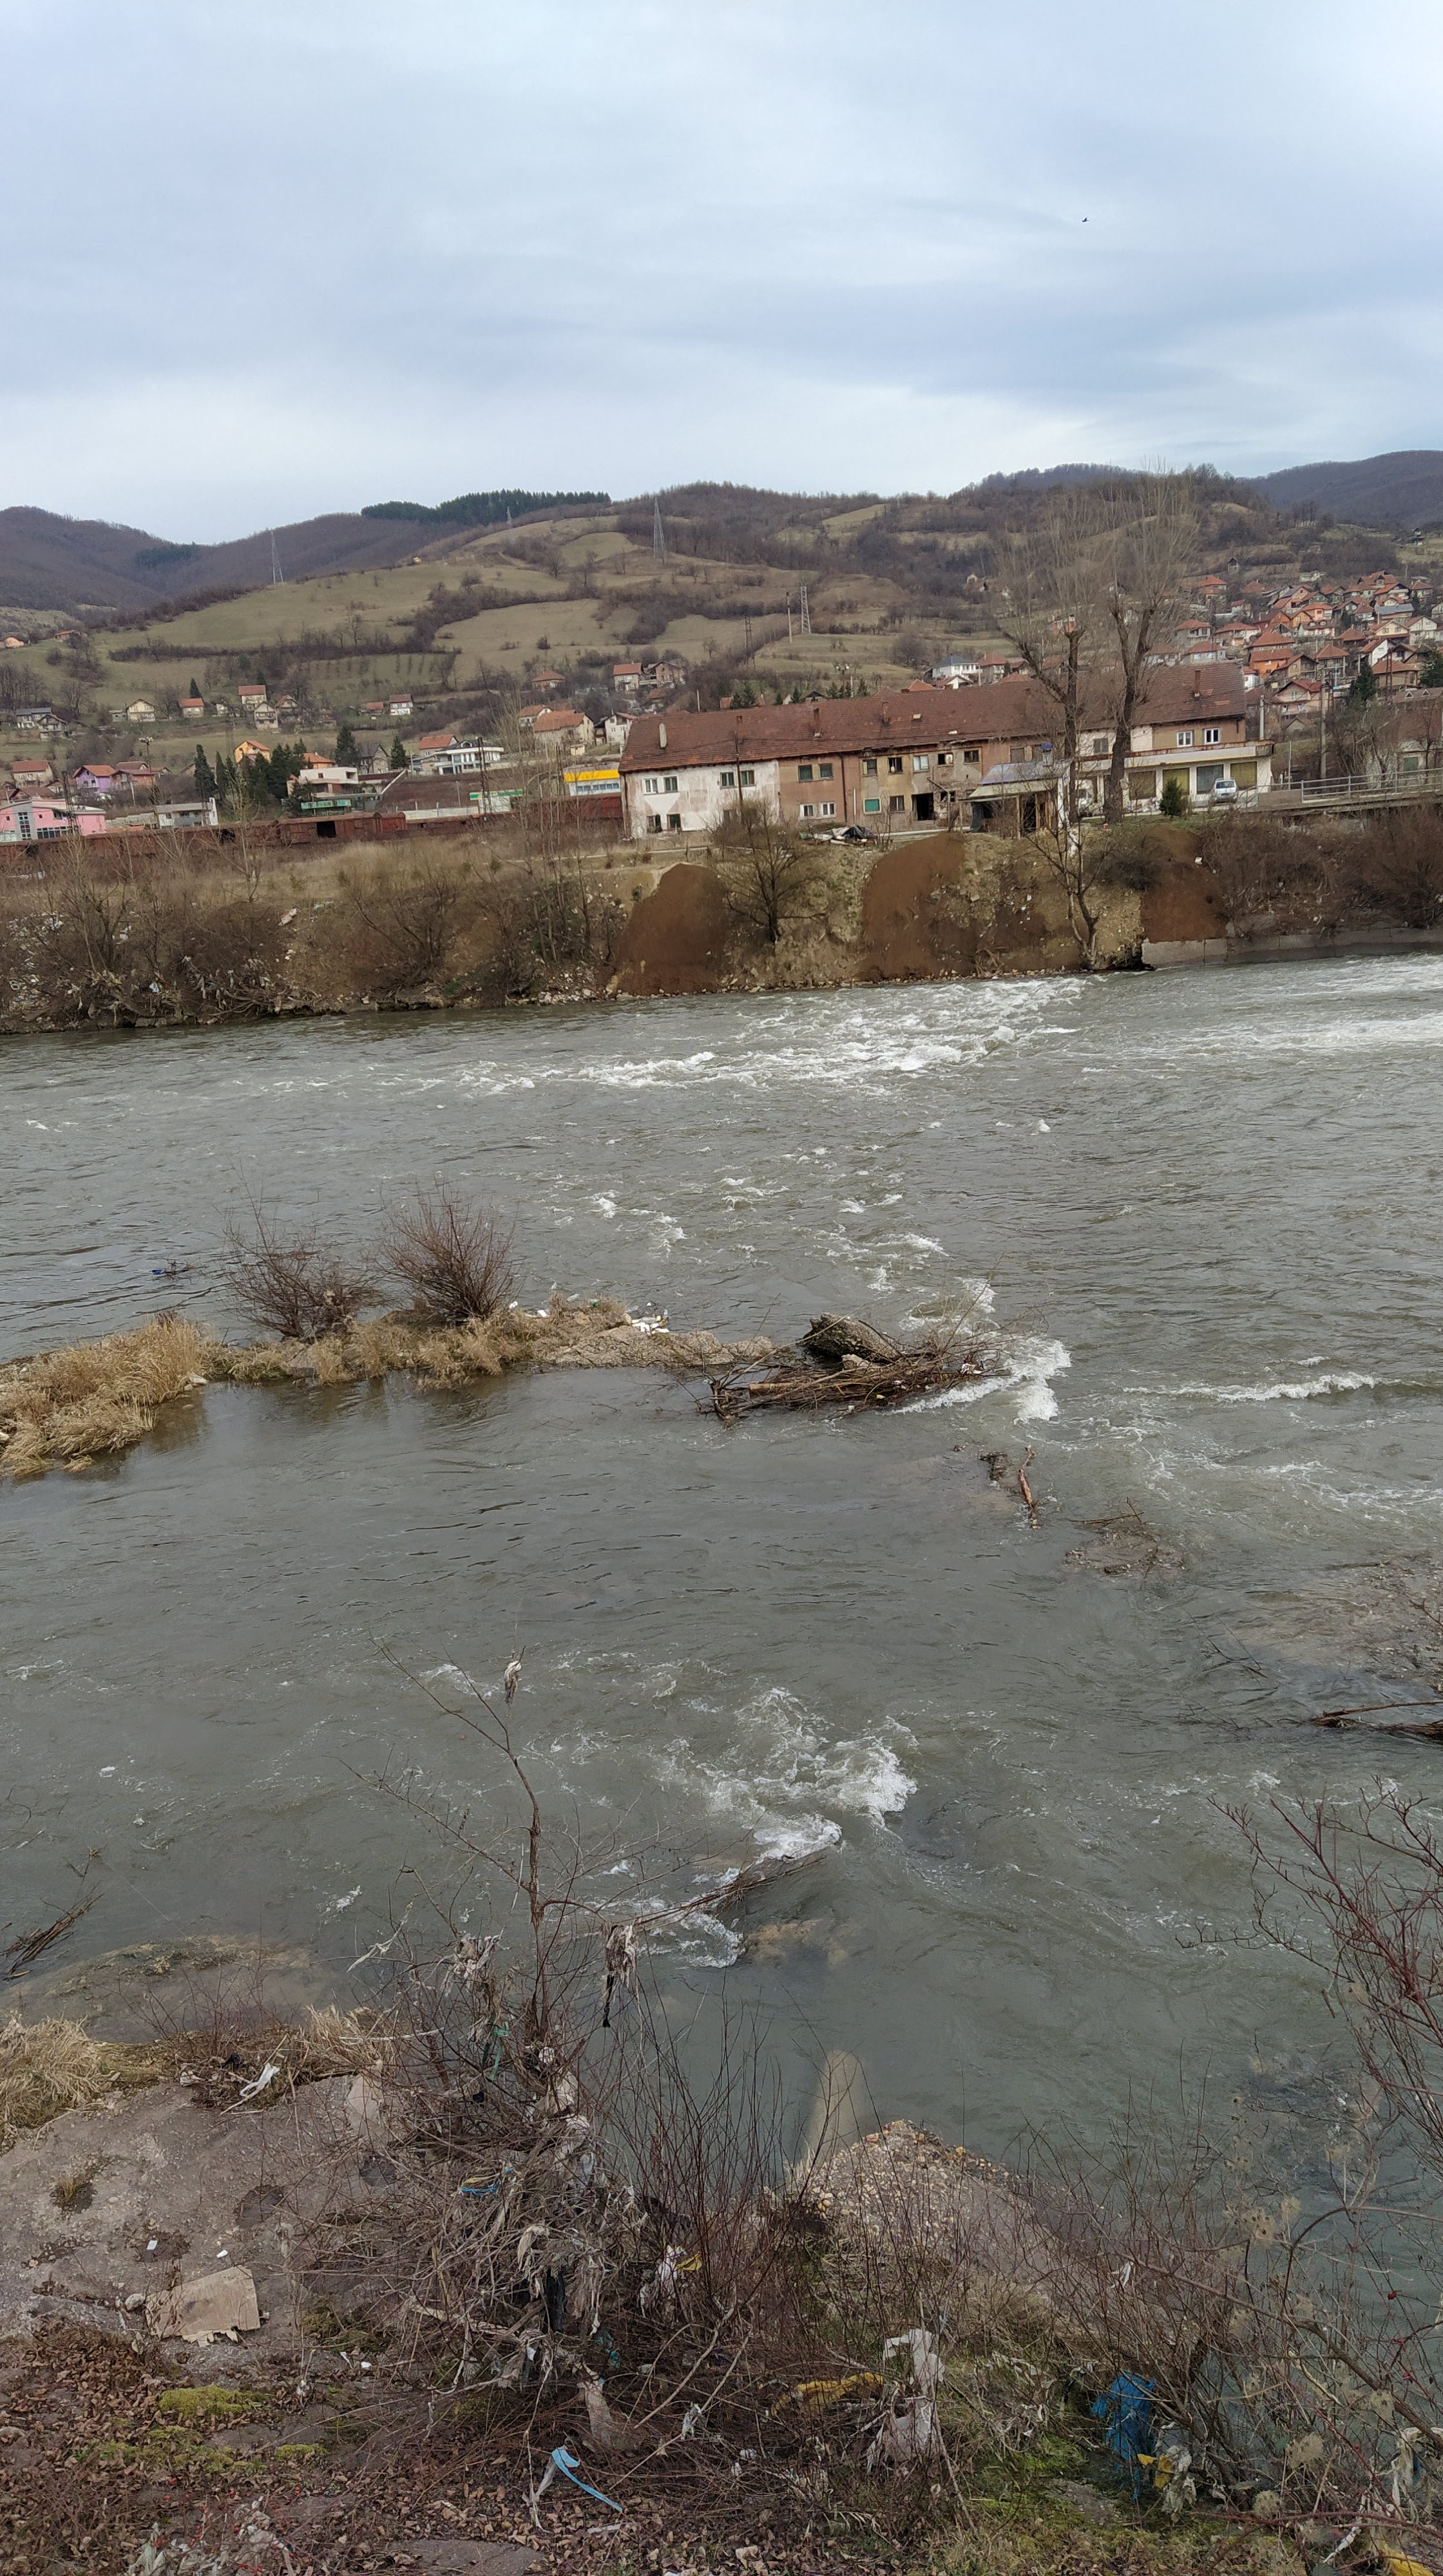Plastic Bottle: (565, 1293, 579, 1302), (625, 1304, 639, 1313), (643, 1316, 657, 1323), (655, 1327, 667, 1332), (586, 1299, 598, 1304), (508, 1300, 517, 1307), (659, 1318, 667, 1325), (641, 1322, 646, 1332), (207, 1017, 216, 1023), (632, 1318, 641, 1323), (644, 1325, 650, 1334), (632, 1323, 641, 1327), (664, 1307, 667, 1315)
